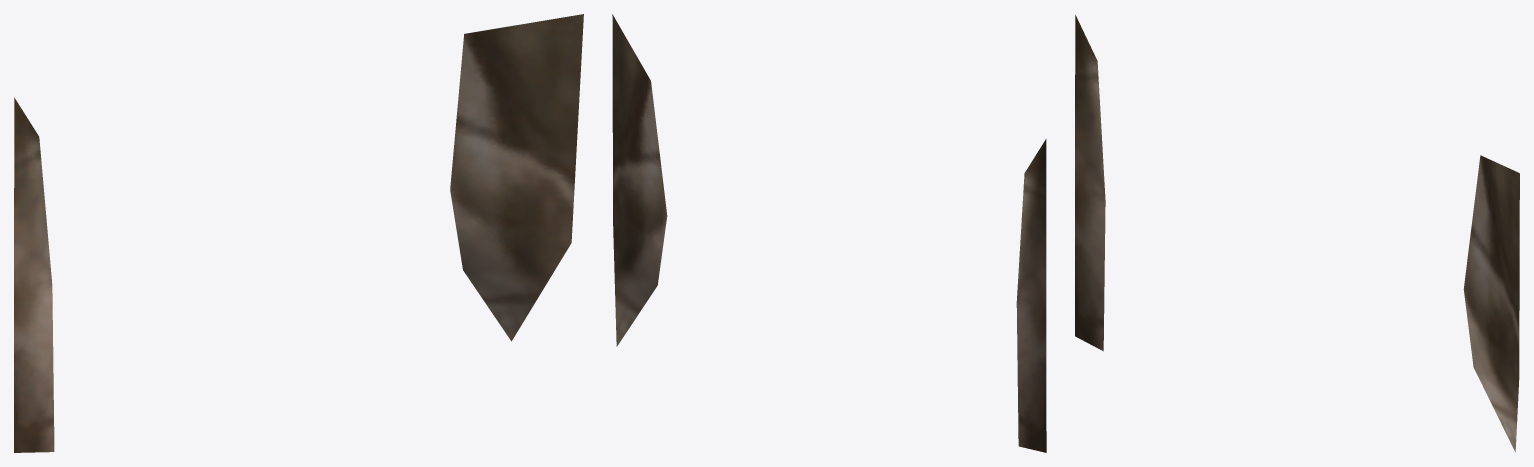
The model's file is EKH_ENTRANCE_PS_EN_PLAT43784746.fbx.
3 views of the same model, side by side, from view 1: azimuth 30°, elevation 25°; view 2: azimuth 150°, elevation 25°; view 3: azimuth 330°, elevation 25° (orthographic). The views are drawn at different scales.
Parts seen in each view (by area): view 1: EKH_ENTRANCE_PS_EN_PLAT43784746; view 2: EKH_ENTRANCE_PS_EN_PLAT43784746; view 3: EKH_ENTRANCE_PS_EN_PLAT43784746.
Part boxes in pixels (x1=…): EKH_ENTRANCE_PS_EN_PLAT43784746: x1=14, y1=14, x2=583, y2=452; EKH_ENTRANCE_PS_EN_PLAT43784746: x1=612, y1=14, x2=1046, y2=452; EKH_ENTRANCE_PS_EN_PLAT43784746: x1=1075, y1=15, x2=1519, y2=452.
Bounding box in the file's own units: 41001 × 26629 × 5278.
Materials: 1 (1 with a texture image).
